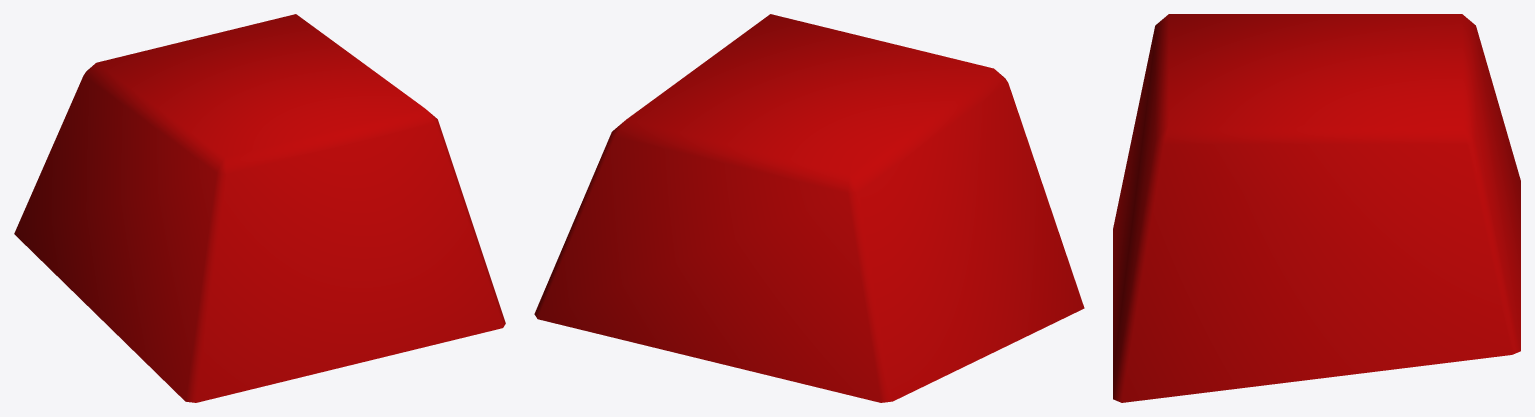
The model's file is Key.fbx.
3 views of the same model, side by side, from view 1: azimuth 30°, elevation 25°; view 2: azimuth 150°, elevation 25°; view 3: azimuth 270°, elevation 25° (orthographic). The views are drawn at different scales.
Parts seen in each view (by area): view 1: Empty_Mesh; view 2: Empty_Mesh; view 3: Empty_Mesh.
Boxes of the visible parts, <box> form: Empty_Mesh: <box>14,14,505,402</box>; Empty_Mesh: <box>534,14,1084,402</box>; Empty_Mesh: <box>1113,14,1520,402</box>.
Size of the model in its own units: 1.92 by 1.23 by 1.86.
